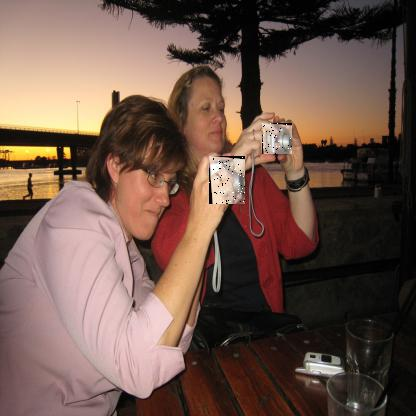Camera: (210, 157, 247, 206), (263, 124, 294, 156)
